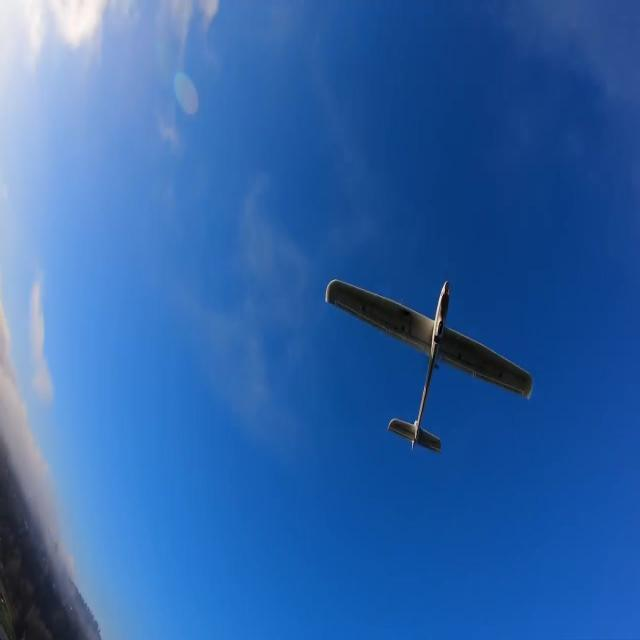iha: (324, 278, 534, 456)
